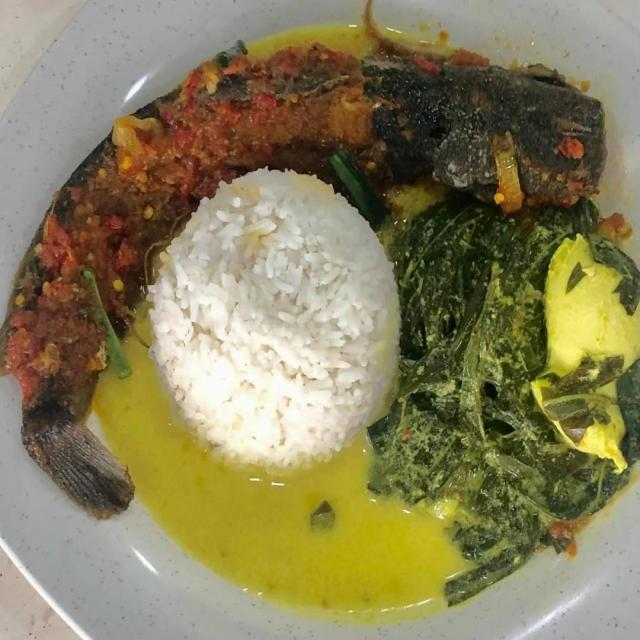Egg: (546, 234, 640, 465)
Fish: (7, 40, 610, 524)
Plate: (0, 380, 639, 639)
Rice: (156, 179, 397, 476)
Vegetables: (374, 191, 621, 576)
